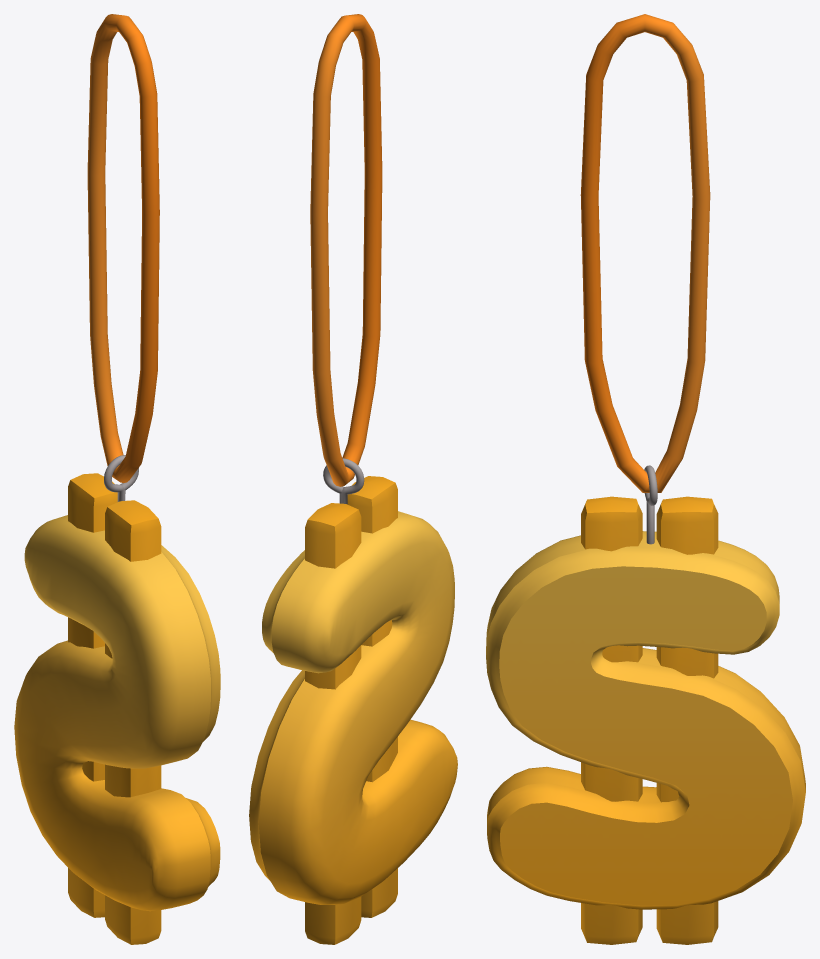
The model's file is Decor_mirror4_dollar.fbx.
The picture shows the model from 3 angles, left to right: view 1: azimuth 30°, elevation 25°; view 2: azimuth 150°, elevation 25°; view 3: azimuth 270°, elevation 25°; orthographic projection. The views are drawn at different scales.
Parts seen in each view (by area): view 1: Object012; view 2: Object012; view 3: Object012.
Part boxes in pixels (left/top/right/bottom): Object012: left=14, top=14, right=220, bottom=944; Object012: left=249, top=14, right=457, bottom=944; Object012: left=486, top=14, right=805, bottom=944.
Bounding box in the file's own units: 346 × 4477 × 1396.
